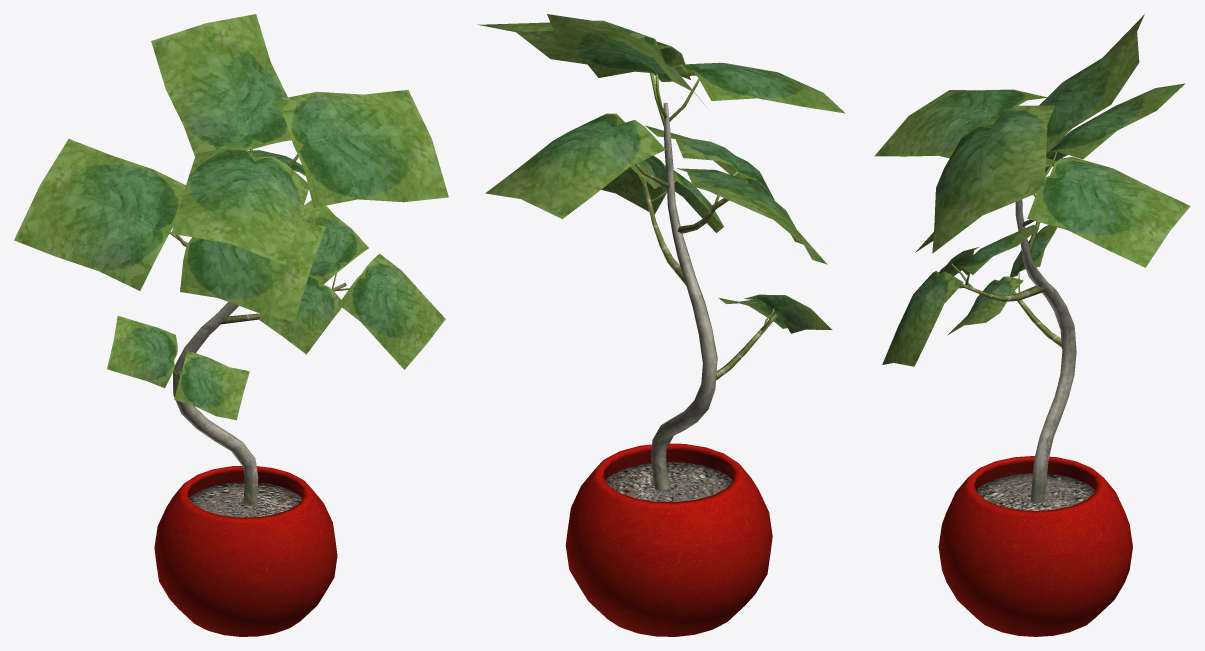
Rendered from Furniture_foliageplant_06b_LOD0 #39135.fbx.
3 views of the same model, side by side, from view 1: azimuth 30°, elevation 25°; view 2: azimuth 150°, elevation 25°; view 3: azimuth 270°, elevation 25° (orthographic). The views are drawn at different scales.
Visible parts, largest first — view 1: F_foliageplant_06_3, F_foliageplant_06_1, F_foliageplant_06_2; view 2: F_foliageplant_06_1, F_foliageplant_06_3, F_foliageplant_06_2; view 3: F_foliageplant_06_3, F_foliageplant_06_1, F_foliageplant_06_2.
Boxes of the visible parts, x1,y1,x2,y2 form: F_foliageplant_06_3: (14,14,448,420); F_foliageplant_06_1: (154,466,337,636); F_foliageplant_06_2: (173,234,346,505); F_foliageplant_06_1: (565,443,772,636); F_foliageplant_06_3: (477,14,845,333); F_foliageplant_06_2: (635,102,777,490); F_foliageplant_06_3: (874,14,1190,366); F_foliageplant_06_1: (938,456,1132,636); F_foliageplant_06_2: (960,199,1076,503).
Size of the model in its own units: 0.5248 by 0.7884 by 0.3867.
Materials: 2 (2 with a texture image).
